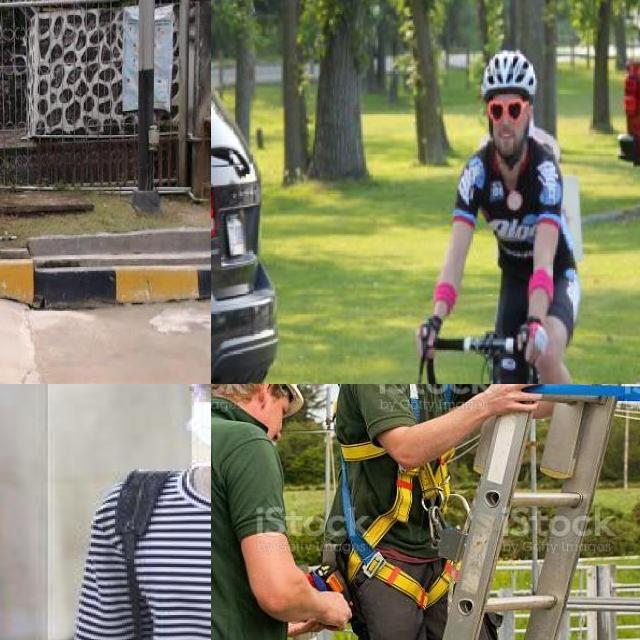Harness: (340, 442, 453, 608)
face_nomask: (486, 95, 526, 146)
glasses: (488, 99, 531, 127)
hand_noglove: (510, 317, 551, 363), (411, 317, 444, 360)
head_helmet: (476, 43, 542, 100)
person: (430, 34, 590, 384), (47, 384, 211, 640), (180, 0, 211, 384)
